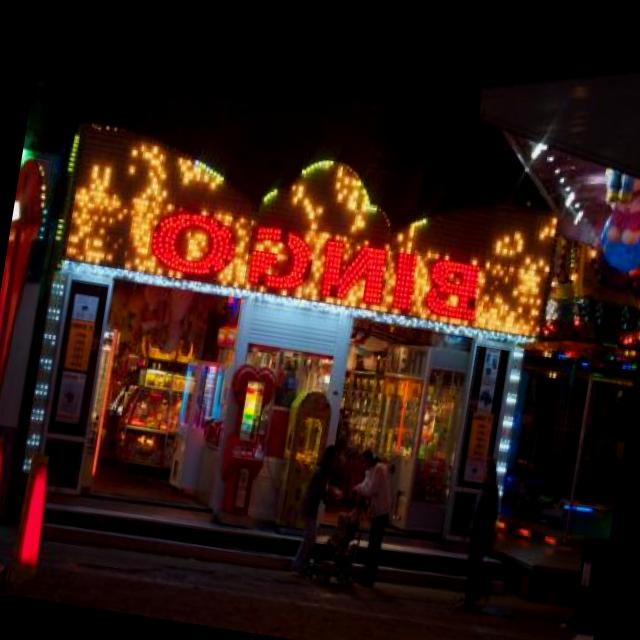Person: (454, 452, 508, 615), (344, 454, 402, 594), (286, 435, 341, 580)
